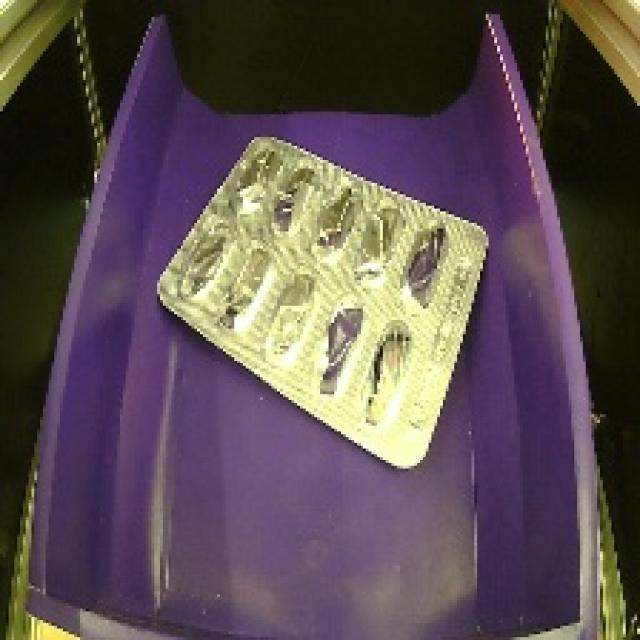med_plate: (143, 120, 499, 482)
